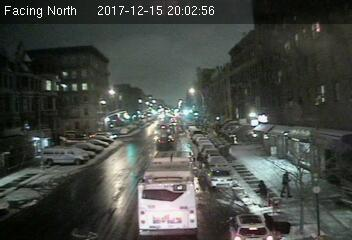bus: (136, 148, 202, 235)
car: (226, 212, 272, 240), (205, 166, 237, 189)
pedestrian: (281, 169, 292, 197)
